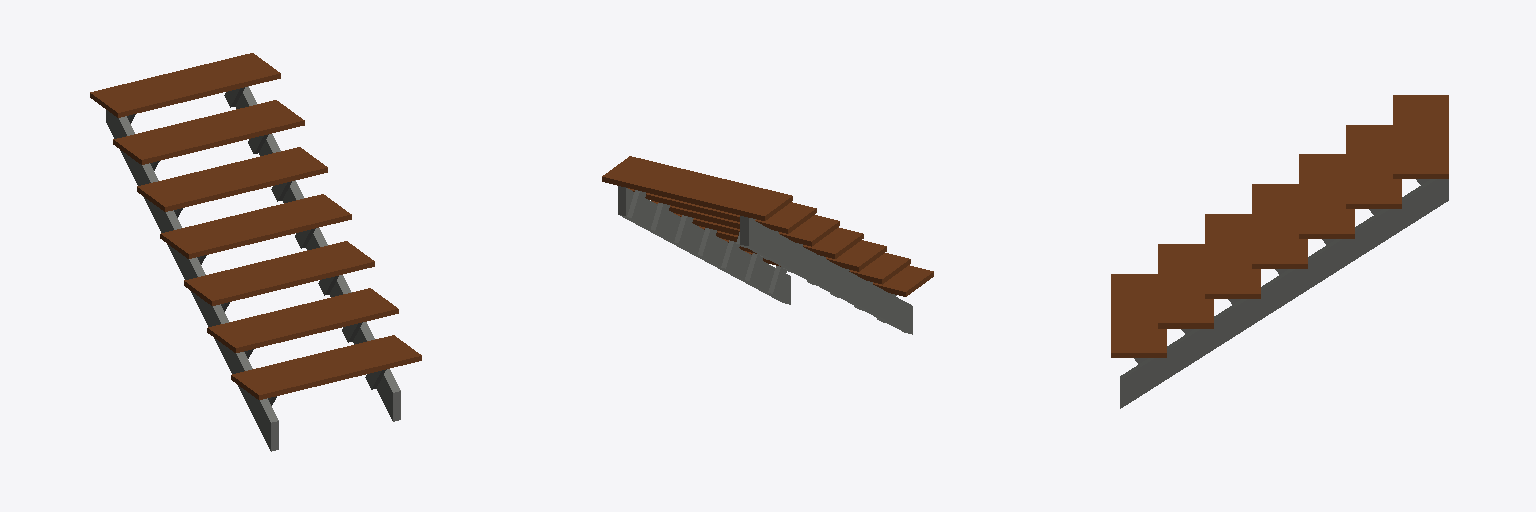
File: stairs.obj
3 renders of one model, left to right at view 1: azimuth 30°, elevation 25°; view 2: azimuth 150°, elevation 25°; view 3: azimuth 270°, elevation 25°, orthographic.
Visible parts, largest first — view 1: Mesh16 Group20 Group19 stairs1 Model, Mesh26 Group32 Group31 stairs1 Model, Mesh6 Group8 Group7 stairs1 Model, Mesh11 Group14 Group13 stairs1 Model, Mesh31 Group38 Group37 stairs1 Model, Mesh1 Group2 Group1 stairs1 Model, Mesh21 Group26 Group25 stairs1 Model, Mesh33 Group40 Group37 stairs1 Model, Mesh35 Group42 Group37 stairs1 Model, Mesh3 Group4 Group1 stairs1 Model, Mesh13 Group16 Group13 stairs1 Model, Mesh23 Group28 Group25 stairs1 Model (+3 smaller); view 2: Mesh1 Group2 Group1 stairs1 Model, Mesh6 Group8 Group7 stairs1 Model, Mesh11 Group14 Group13 stairs1 Model, Mesh16 Group20 Group19 stairs1 Model, Mesh21 Group26 Group25 stairs1 Model, Mesh31 Group38 Group37 stairs1 Model, Mesh26 Group32 Group31 stairs1 Model, Mesh3 Group4 Group1 stairs1 Model, Mesh8 Group10 Group7 stairs1 Model, Mesh28 Group34 Group31 stairs1 Model, Mesh18 Group22 Group19 stairs1 Model, Mesh13 Group16 Group13 stairs1 Model (+3 smaller); view 3: Mesh1 Group2 Group1 stairs1 Model, Mesh11 Group14 Group13 stairs1 Model, Mesh16 Group20 Group19 stairs1 Model, Mesh21 Group26 Group25 stairs1 Model, Mesh26 Group32 Group31 stairs1 Model, Mesh6 Group8 Group7 stairs1 Model, Mesh31 Group38 Group37 stairs1 Model, Mesh5 Group6 Group1 stairs1 Model, Mesh35 Group42 Group37 stairs1 Model, Mesh10 Group12 Group7 stairs1 Model, Mesh15 Group18 Group13 stairs1 Model, Mesh20 Group24 Group19 stairs1 Model (+2 smaller).
Boxes of the visible parts, x1,y1,x2,y2 form: Mesh16 Group20 Group19 stairs1 Model: [160, 194, 351, 258]; Mesh26 Group32 Group31 stairs1 Model: [207, 288, 398, 352]; Mesh6 Group8 Group7 stairs1 Model: [113, 100, 304, 164]; Mesh11 Group14 Group13 stairs1 Model: [137, 147, 327, 211]; Mesh31 Group38 Group37 stairs1 Model: [231, 335, 421, 399]; Mesh1 Group2 Group1 stairs1 Model: [90, 53, 280, 117]; Mesh21 Group26 Group25 stairs1 Model: [184, 241, 374, 305]; Mesh33 Group40 Group37 stairs1 Model: [247, 392, 278, 451]; Mesh35 Group42 Group37 stairs1 Model: [376, 369, 400, 421]; Mesh3 Group4 Group1 stairs1 Model: [106, 110, 134, 168]; Mesh13 Group16 Group13 stairs1 Model: [153, 204, 181, 262]; Mesh23 Group28 Group25 stairs1 Model: [200, 298, 228, 356]; Mesh1 Group2 Group1 stairs1 Model: [602, 156, 792, 220]; Mesh6 Group8 Group7 stairs1 Model: [628, 188, 816, 233]; Mesh11 Group14 Group13 stairs1 Model: [652, 201, 839, 246]; Mesh16 Group20 Group19 stairs1 Model: [674, 213, 863, 258]; Mesh21 Group26 Group25 stairs1 Model: [699, 226, 886, 271]; Mesh31 Group38 Group37 stairs1 Model: [745, 251, 933, 296]; Mesh26 Group32 Group31 stairs1 Model: [721, 238, 910, 284]; Mesh3 Group4 Group1 stairs1 Model: [740, 216, 771, 258]; Mesh8 Group10 Group7 stairs1 Model: [766, 230, 795, 271]; Mesh28 Group34 Group31 stairs1 Model: [860, 281, 889, 321]; Mesh18 Group22 Group19 stairs1 Model: [813, 256, 842, 296]; Mesh13 Group16 Group13 stairs1 Model: [789, 243, 818, 283]; Mesh1 Group2 Group1 stairs1 Model: [1393, 95, 1448, 178]; Mesh11 Group14 Group13 stairs1 Model: [1299, 154, 1354, 238]; Mesh16 Group20 Group19 stairs1 Model: [1252, 184, 1307, 268]; Mesh21 Group26 Group25 stairs1 Model: [1205, 214, 1260, 298]; Mesh26 Group32 Group31 stairs1 Model: [1158, 244, 1213, 328]; Mesh6 Group8 Group7 stairs1 Model: [1346, 125, 1401, 208]; Mesh31 Group38 Group37 stairs1 Model: [1111, 274, 1166, 357]; Mesh5 Group6 Group1 stairs1 Model: [1402, 179, 1448, 229]; Mesh35 Group42 Group37 stairs1 Model: [1120, 358, 1166, 408]; Mesh10 Group12 Group7 stairs1 Model: [1355, 209, 1401, 259]; Mesh15 Group18 Group13 stairs1 Model: [1308, 239, 1354, 289]; Mesh20 Group24 Group19 stairs1 Model: [1261, 269, 1307, 319].
Size of the model in its own units: 1.26 by 1.8 by 2.27.